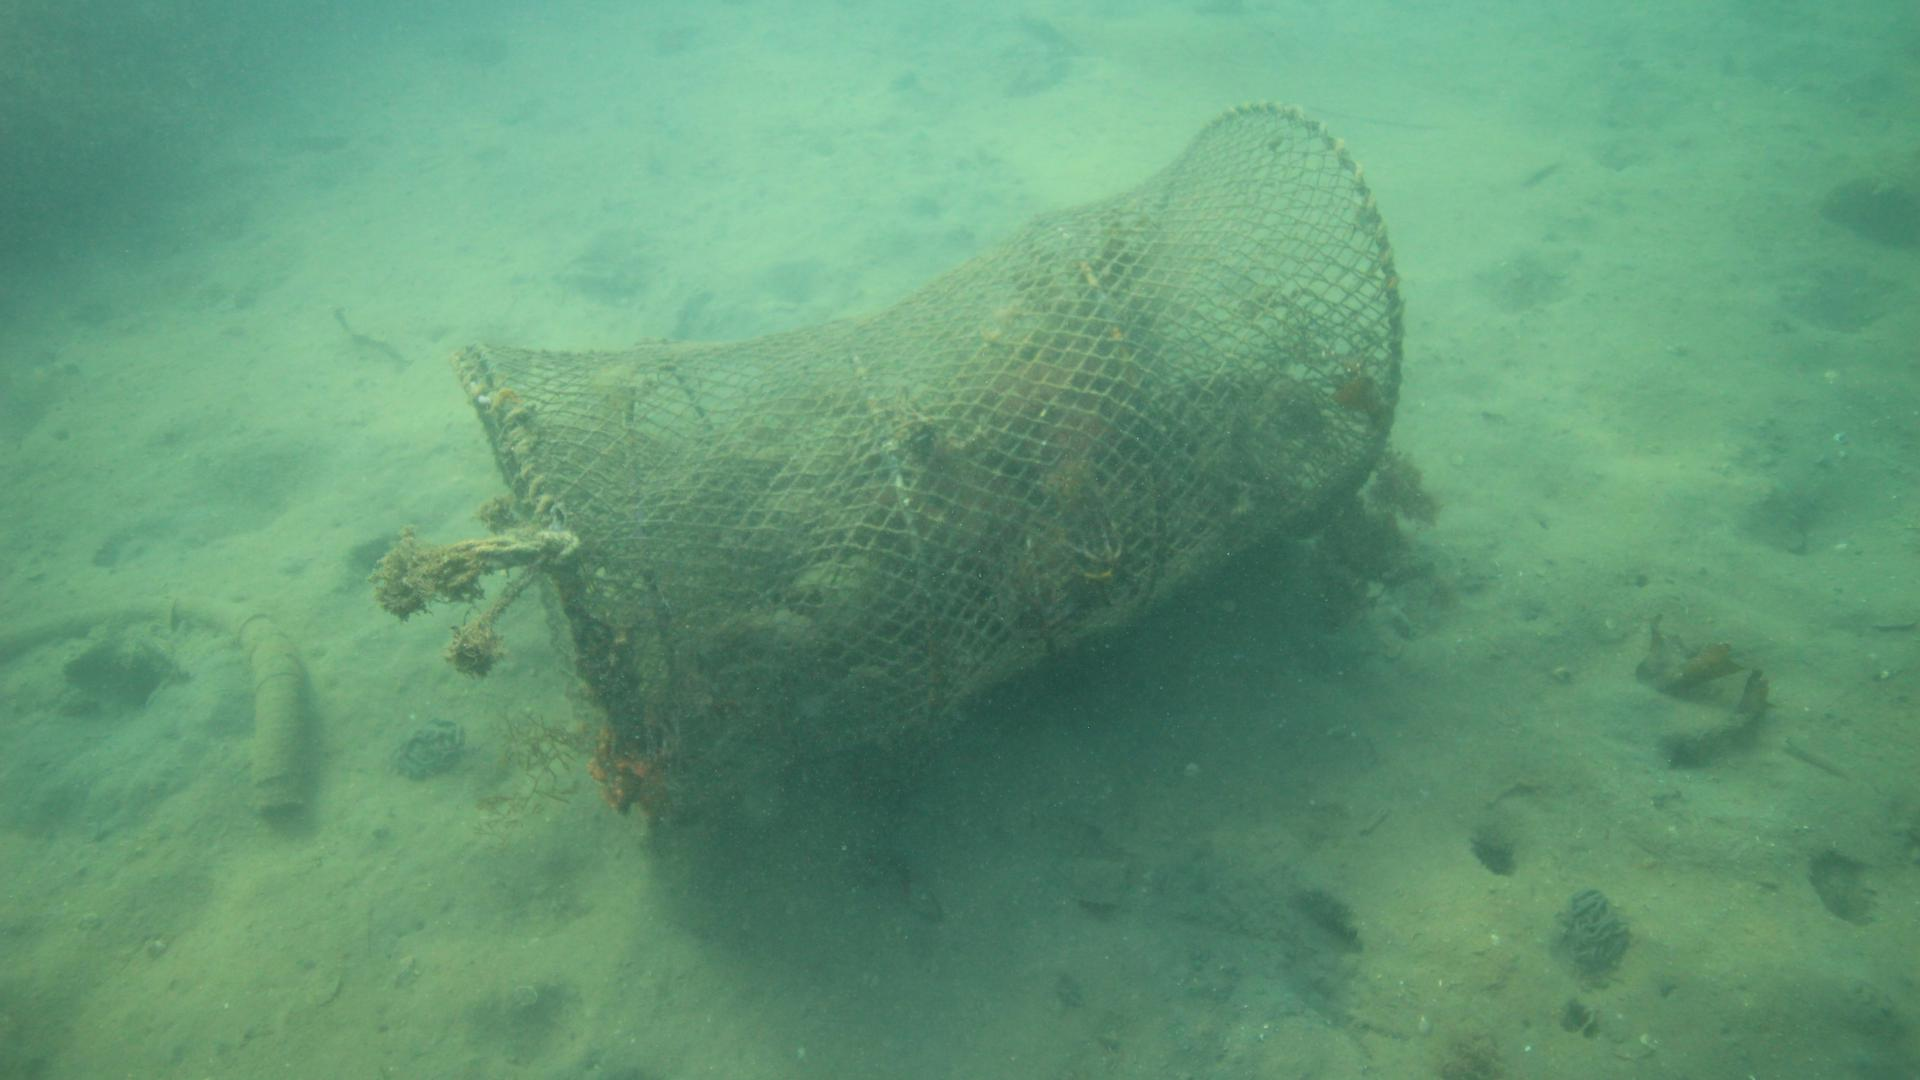spring fish trap: (447, 98, 1404, 827)
